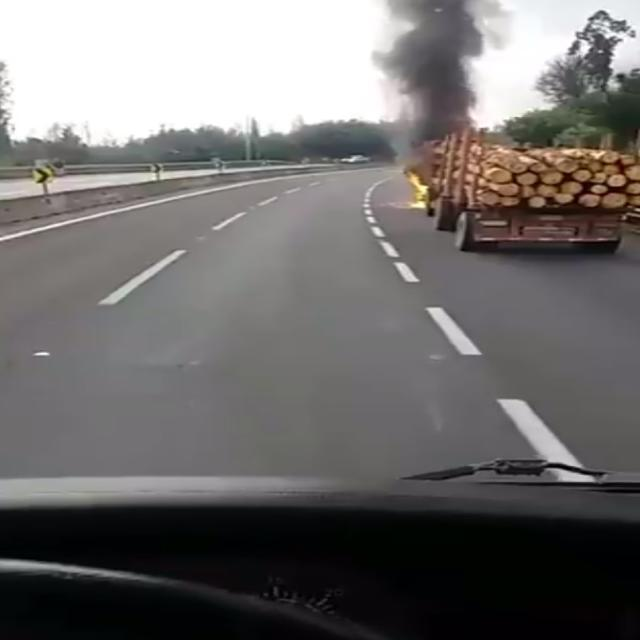smoke: (405, 5, 471, 121)
